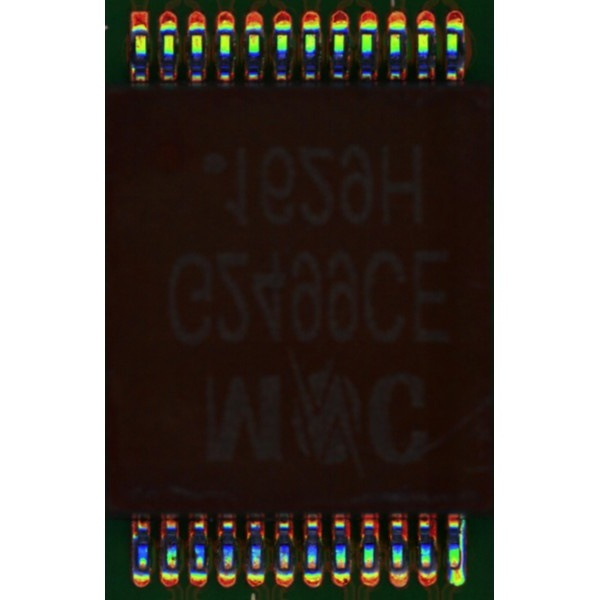Bad_podu: (451, 563, 463, 575)
Bad_qiaojiao: (459, 520, 465, 563)
